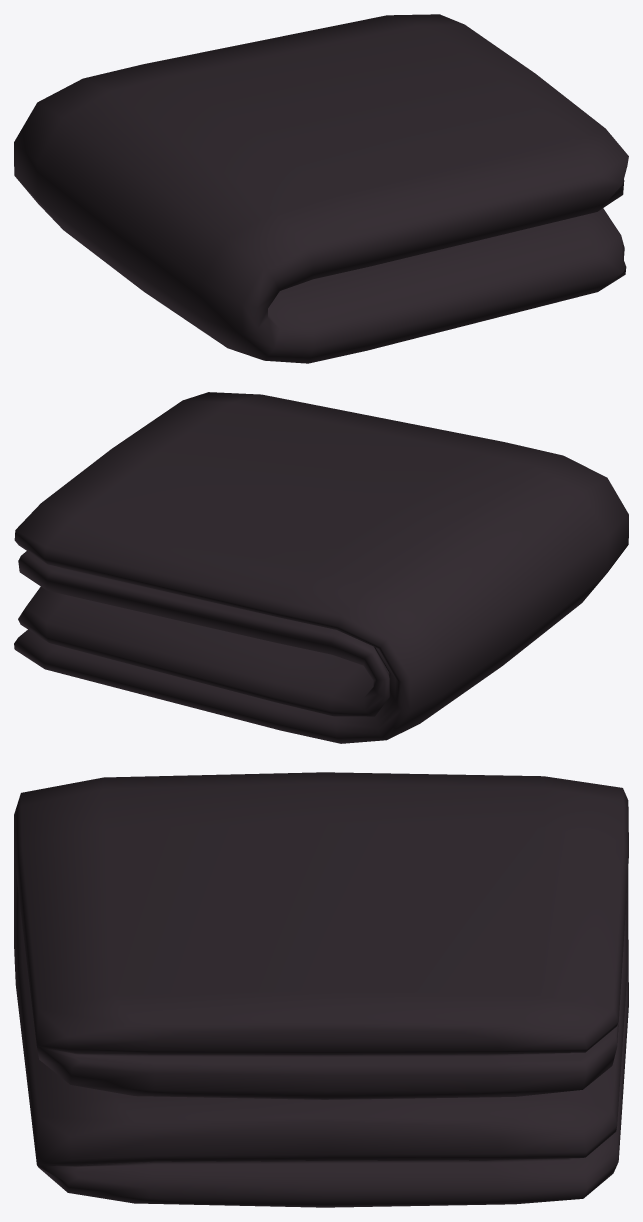
Rendered from Cloak.FBX.
3 views of the same model, one above another, from view 1: azimuth 30°, elevation 25°; view 2: azimuth 150°, elevation 25°; view 3: azimuth 270°, elevation 25° (orthographic). The views are drawn at different scales.
Parts seen in each view (by area): view 1: Cloak; view 2: Cloak; view 3: Cloak.
Part boxes in pixels (box(x1,y1,x2,y2)): Cloak: box(14, 14, 628, 363); Cloak: box(14, 392, 628, 743); Cloak: box(14, 772, 628, 1207).
Bounding box in the file's own units: 6.45 × 2.2 × 6.02.
Materials: 1 (1 with a texture image).
